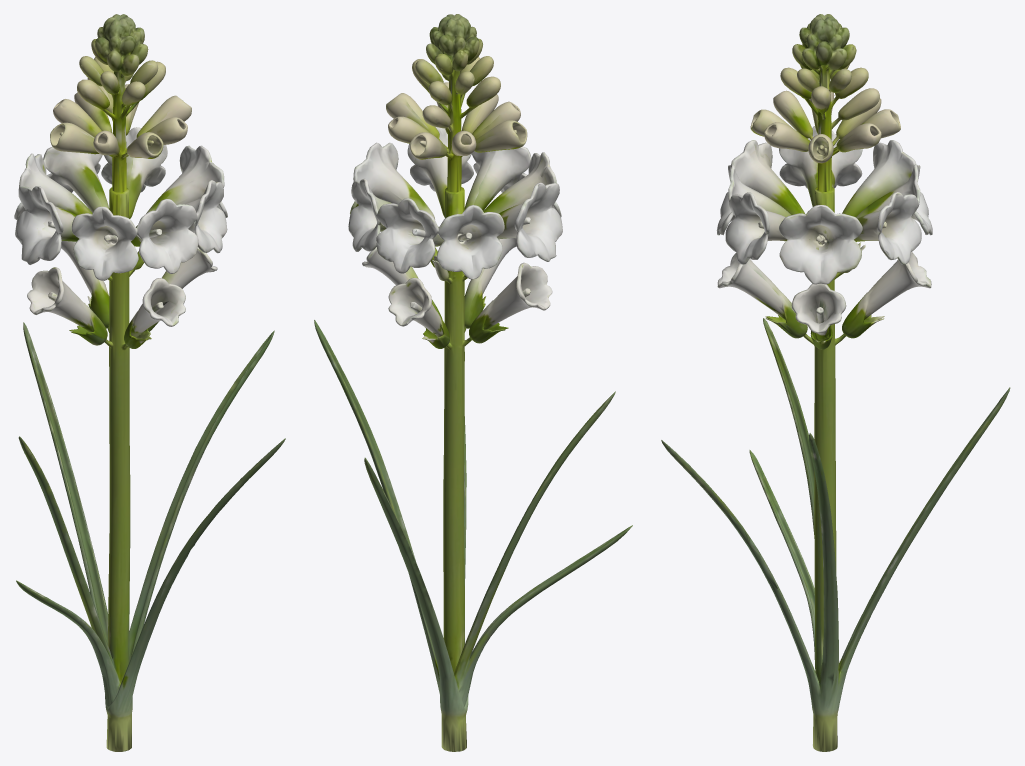
Rendered from wangxiangyu.glb.
The picture shows the model from 3 angles, left to right: view 1: azimuth 30°, elevation 25°; view 2: azimuth 150°, elevation 25°; view 3: azimuth 270°, elevation 25°; orthographic projection.
Visible parts, largest first — view 1: node_0; view 2: node_0; view 3: node_0.
Boxes of the visible parts, box(x1,y1,x2,y2) form: node_0: box(14, 14, 285, 751); node_0: box(314, 14, 632, 751); node_0: box(661, 14, 1010, 751).
Size of the model in its own units: 0.4955 by 1.2 by 0.5185.
1 material, 1 textured.
